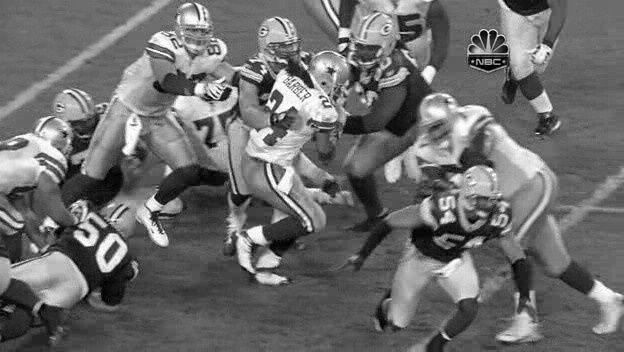person: (318, 51, 353, 96), (317, 51, 352, 96), (319, 51, 354, 96), (318, 50, 353, 95), (318, 52, 353, 97)
target_negative: (239, 162, 448, 239), (351, 183, 363, 319), (255, 229, 274, 312), (452, 319, 527, 337), (382, 337, 431, 349), (621, 334, 623, 349)
